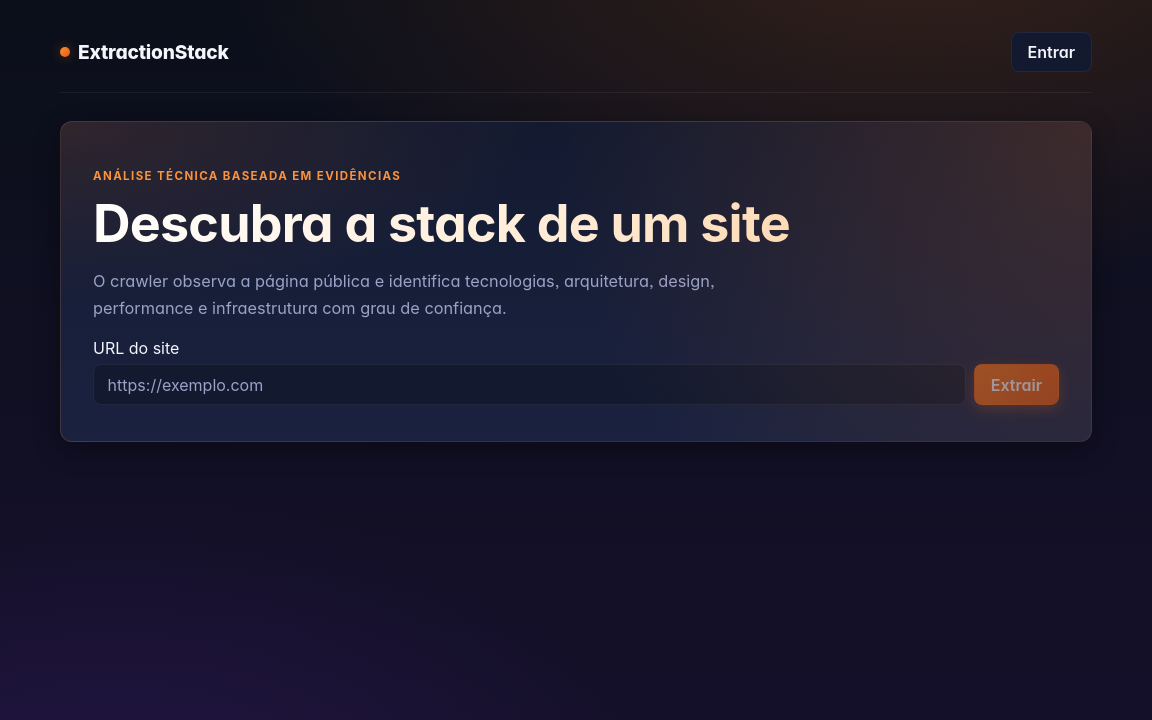
DashboardPage › submits a URL and renders the persisted successful report
Type "https://example.com" into the field labelled "URL do site" at (529, 385), box 93,364 -> 966,406
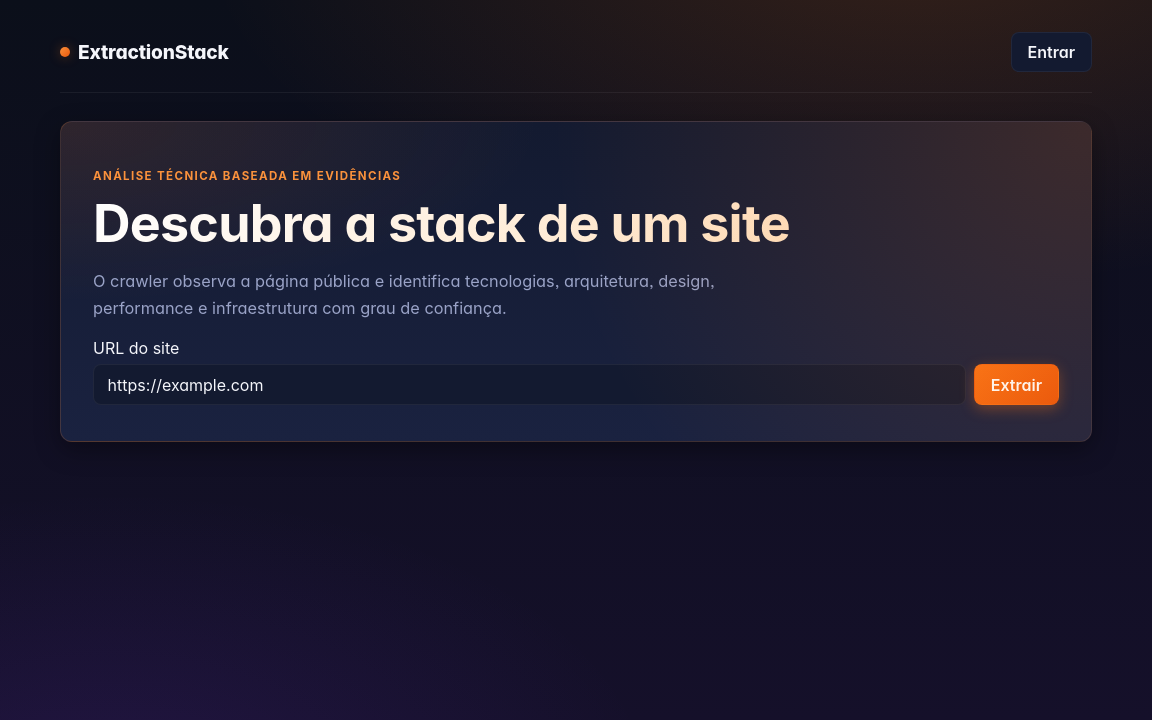
Click the button "Extrair" at (1016, 385), box 974,364 -> 1059,406
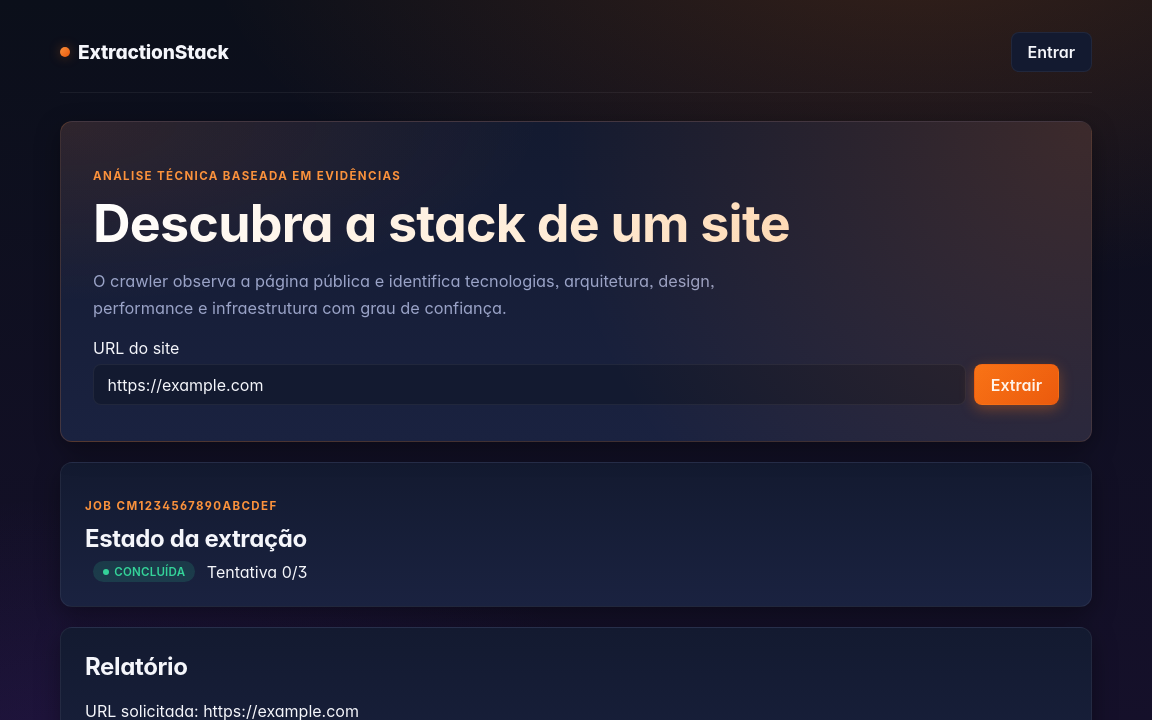
Expected: the heading "Relatório" is shown, 85,652 -> 188,681
